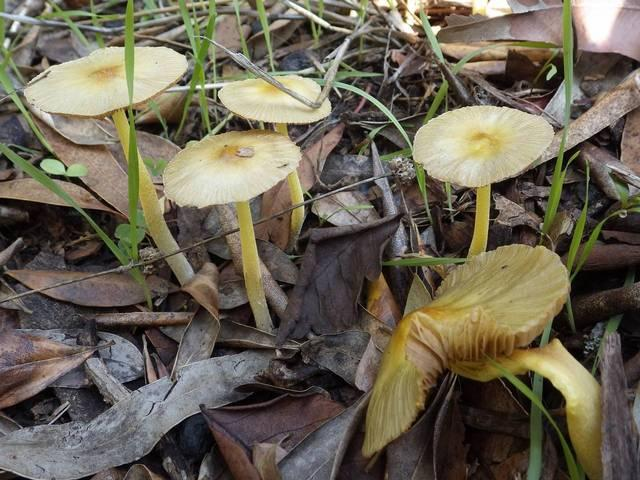edible_mushroom: (359, 242, 603, 479), (161, 127, 302, 333), (23, 42, 202, 176), (411, 103, 554, 261), (214, 70, 337, 146)
